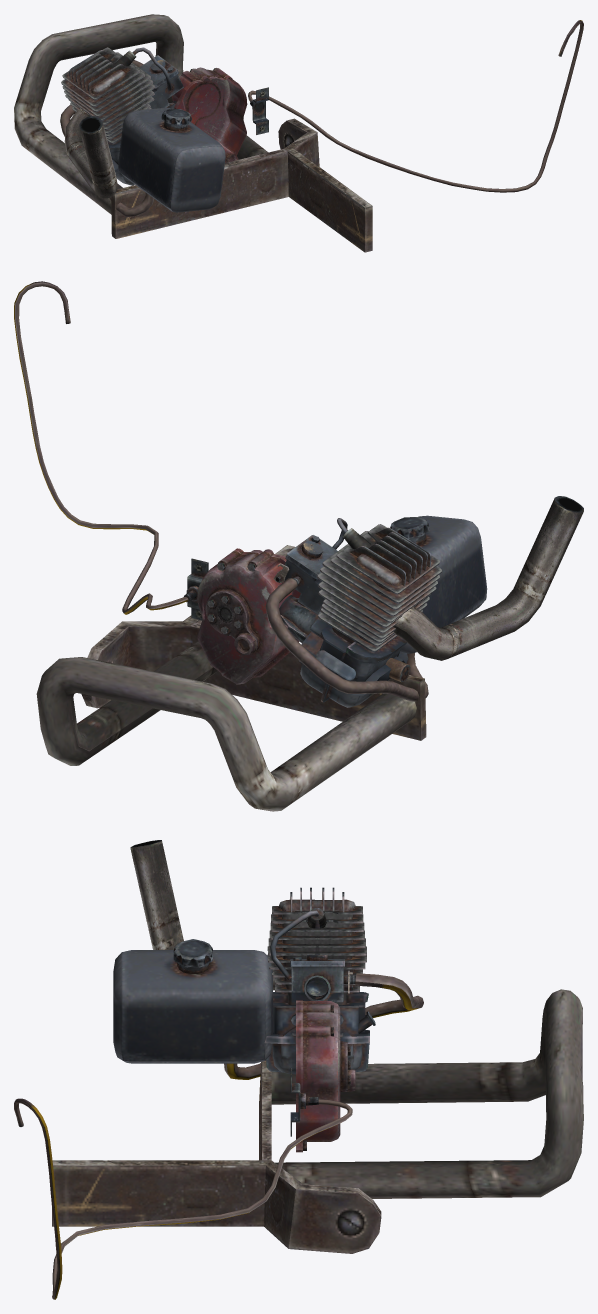
3 views of the same model, one above another, from view 1: azimuth 30°, elevation 25°; view 2: azimuth 150°, elevation 25°; view 3: azimuth 270°, elevation 25° (orthographic). The views are drawn at different scales.
Visible parts, largest first — view 1: wpn34_gatling; view 2: wpn34_gatling; view 3: wpn34_gatling.
Boxes of the visible parts, x1,y1,x2,y2 form: wpn34_gatling: (14, 14, 583, 252); wpn34_gatling: (14, 281, 583, 811); wpn34_gatling: (14, 840, 583, 1299).
Size of the model in its own units: 0.5433 by 0.2136 by 0.4243.
Materials: 1 (1 with a texture image).
